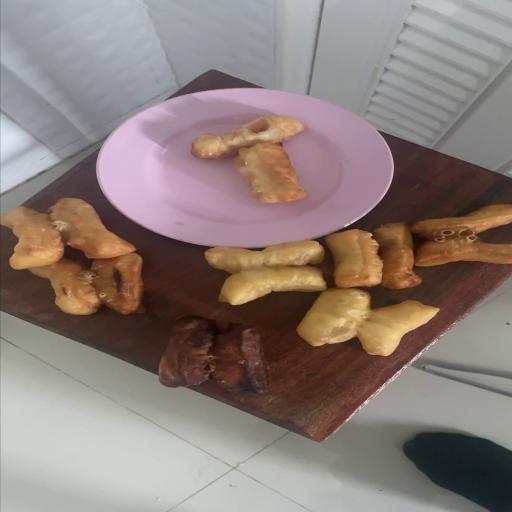street_burnt_defect: (157, 316, 267, 394), (27, 255, 144, 314)
street_golden_good: (205, 241, 324, 304)
